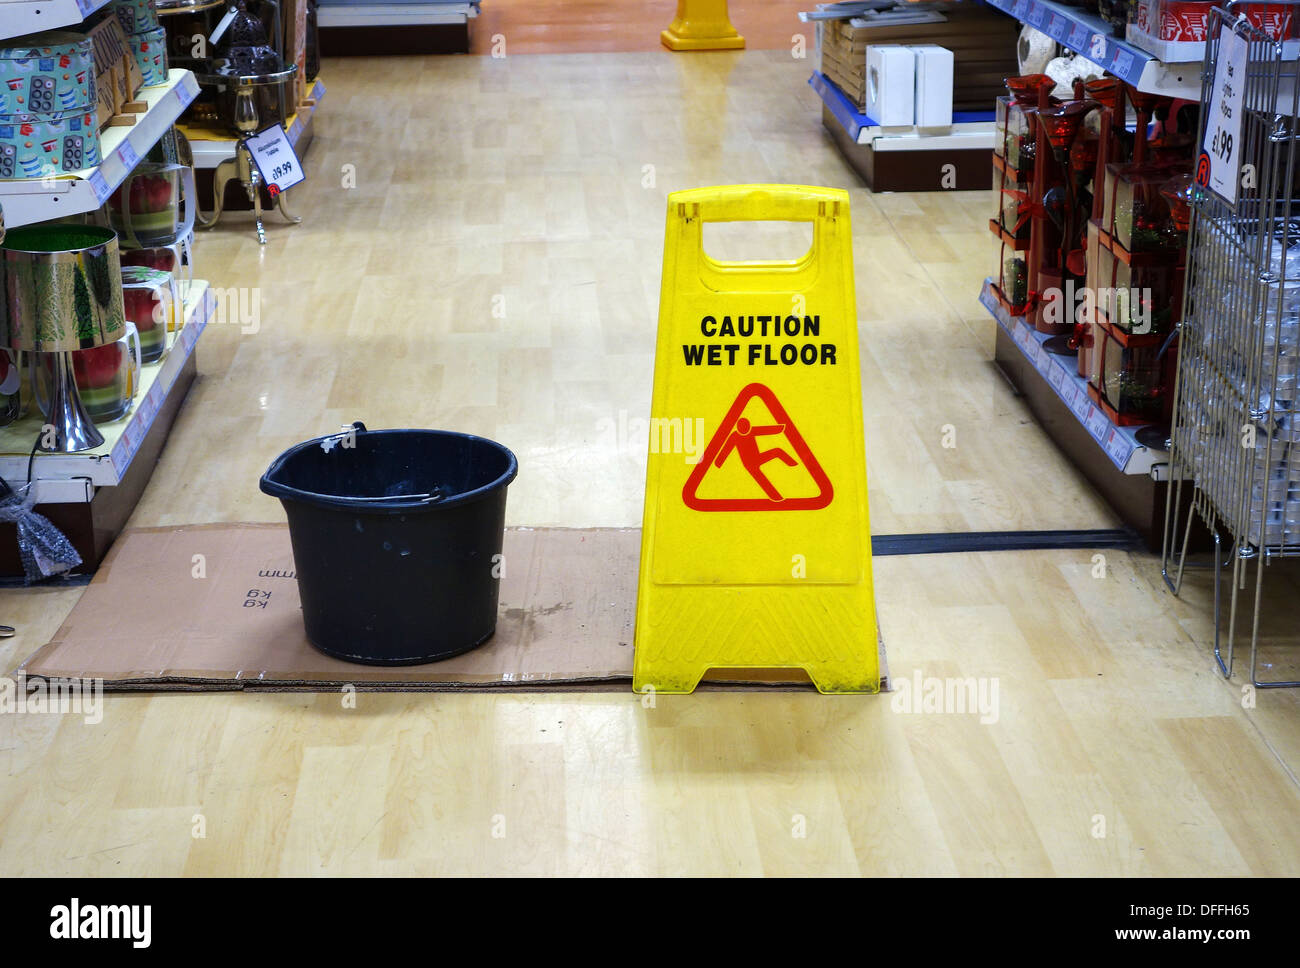wet caution sign: (644, 197, 883, 700)
